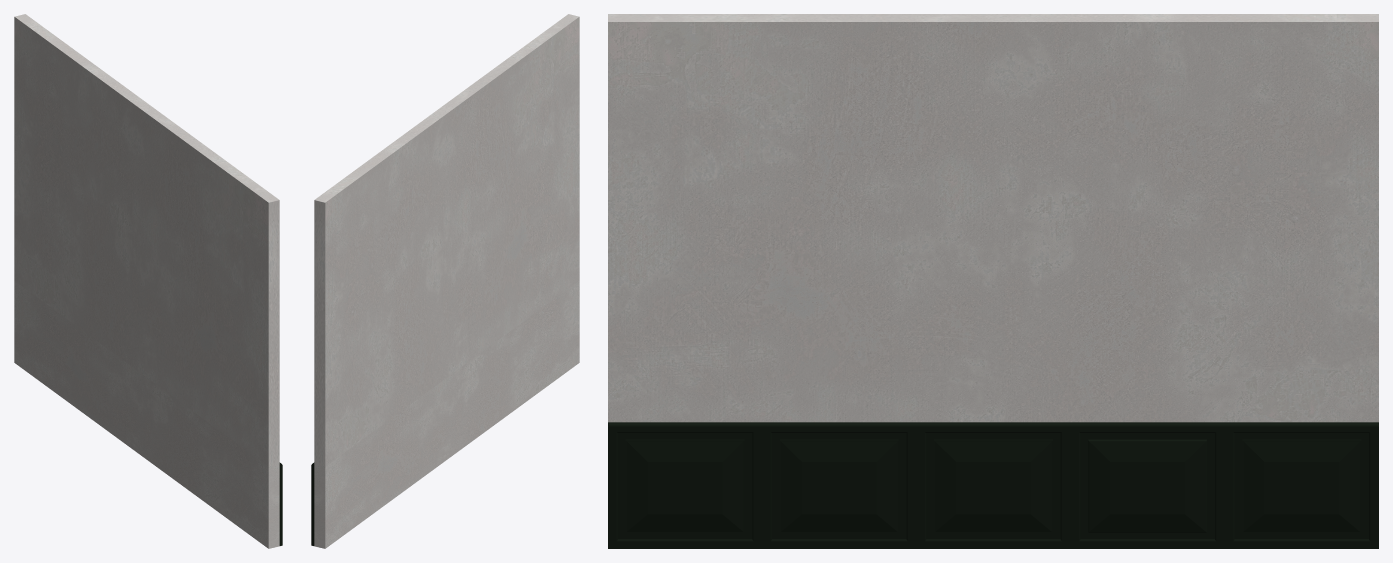
The model's file is Wall8x8TrimLarge.glb.
3 views of the same model, side by side, from view 1: azimuth 30°, elevation 25°; view 2: azimuth 150°, elevation 25°; view 3: azimuth 270°, elevation 25° (orthographic). The views are drawn at different scales.
Parts seen in each view (by area): view 1: Wall-8mTrimLarge.005; view 2: Wall-8mTrimLarge.005; view 3: Wall-8mTrimLarge.005.
Boxes of the visible parts, x1,y1,x2,y2 form: Wall-8mTrimLarge.005: (14, 14, 282, 548); Wall-8mTrimLarge.005: (311, 14, 579, 548); Wall-8mTrimLarge.005: (608, 14, 1378, 548).
Bounding box in the file's own units: 0.2865 × 6.01 × 8.
2 materials, 1 textured.
